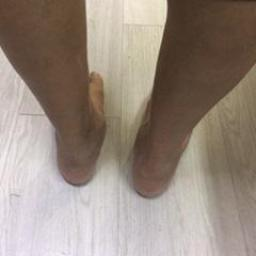Back View -Both Feet-: (12, 67, 229, 206)
